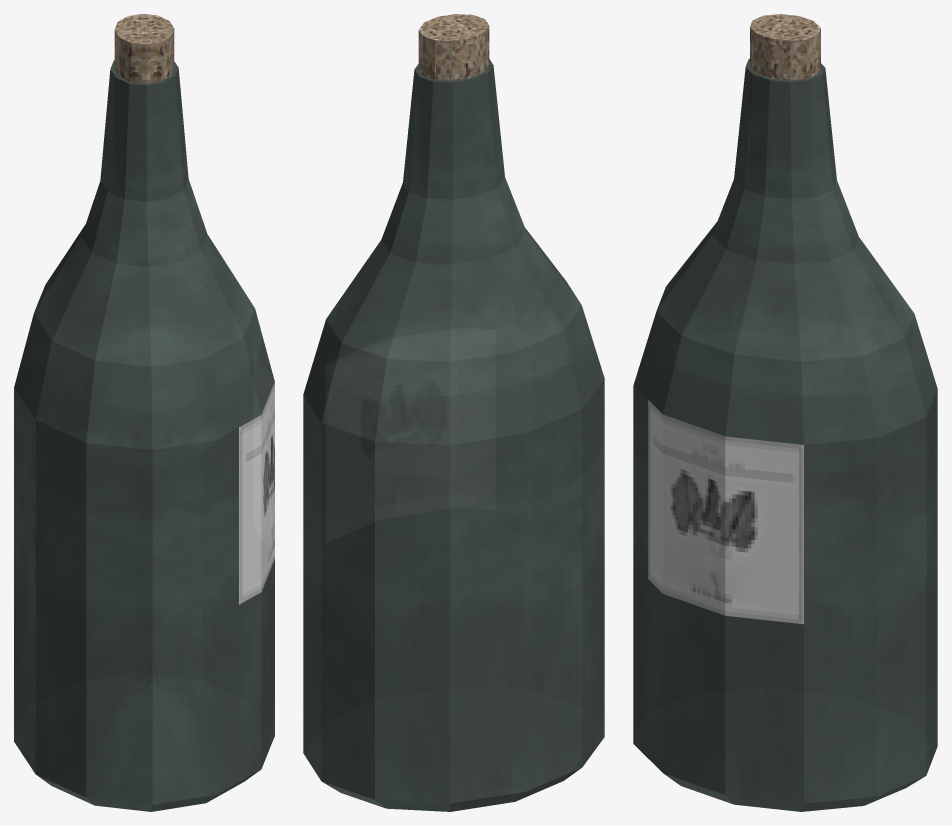
Rendered from wine.glb.
3 renders of one model, left to right at view 1: azimuth 30°, elevation 25°; view 2: azimuth 150°, elevation 25°; view 3: azimuth 270°, elevation 25°, orthographic.
Visible parts, largest first — view 1: wine-col; view 2: wine-col; view 3: wine-col.
Part boxes in pixels (<box>): wine-col: <box>14,14,274,811</box>; wine-col: <box>303,14,604,811</box>; wine-col: <box>633,14,937,811</box>.
Bounding box in the file's own units: 0.2665 × 0.7839 × 0.294.
1 material, 1 textured.
